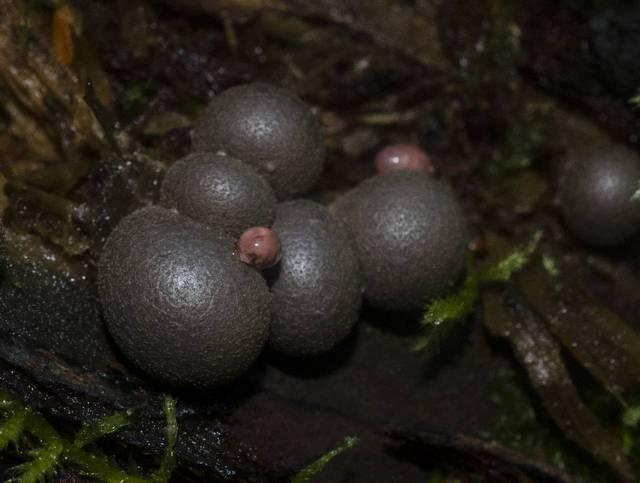poisonous_mushroom: (94, 79, 471, 390), (95, 203, 273, 389), (327, 167, 469, 312), (188, 80, 326, 198), (264, 197, 364, 355), (157, 150, 277, 235), (551, 137, 639, 247), (373, 142, 434, 174)
